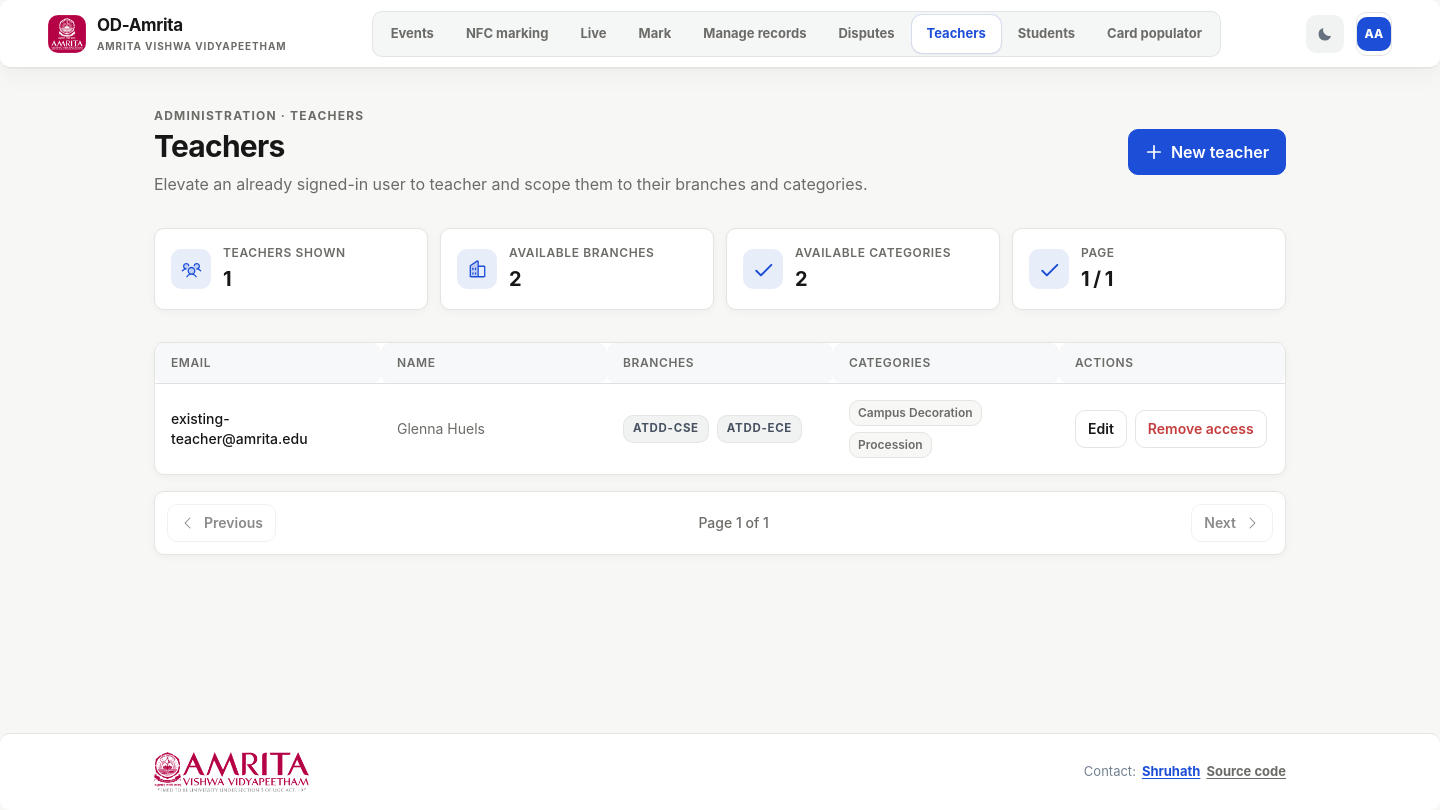
Scenario: Admin teachers portal composition (ATDD red phase) › [P1] maps a typed USER_NOT_FOUND rejection onto an announced non-field error
The width and height of the screenshot is (1440, 810).
Click the button "New teacher" at [1207, 152], box [1128,129,1286,175]
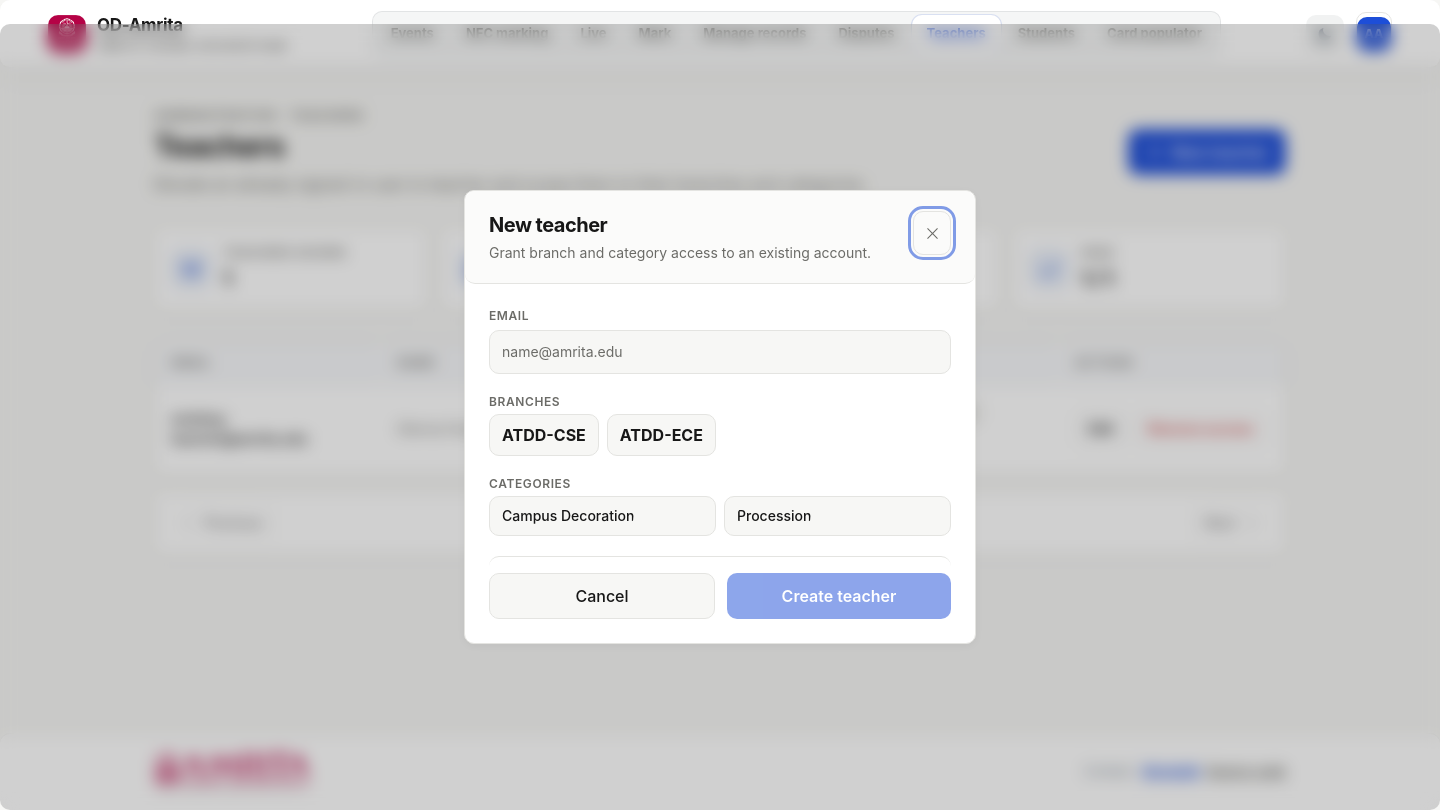
Type "never-logged-in@amrita.edu" into the field labelled "Email" at [720, 352], box [489,330,951,374]
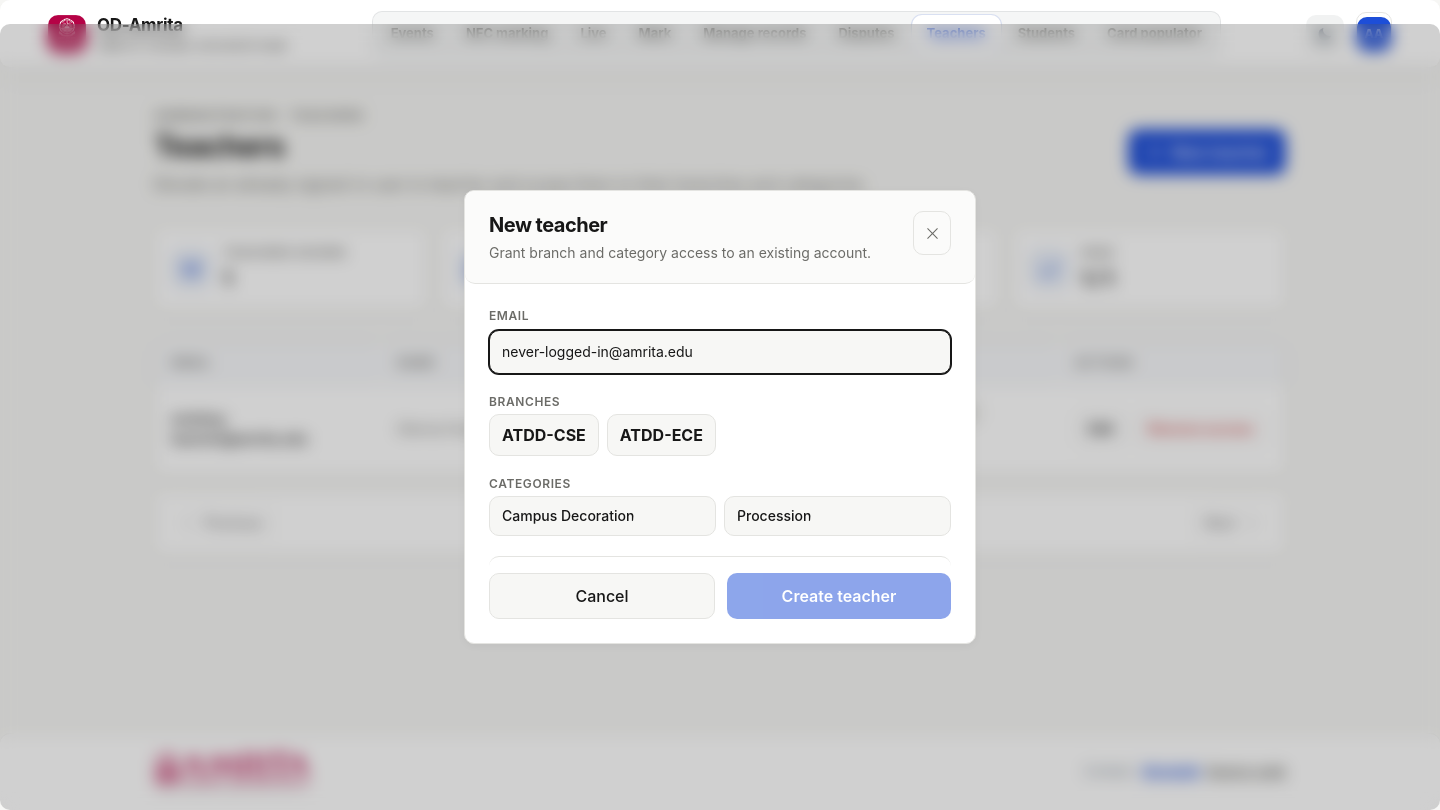
Click the checkbox named "Computer Science" at [544, 435], box [489,414,599,456]
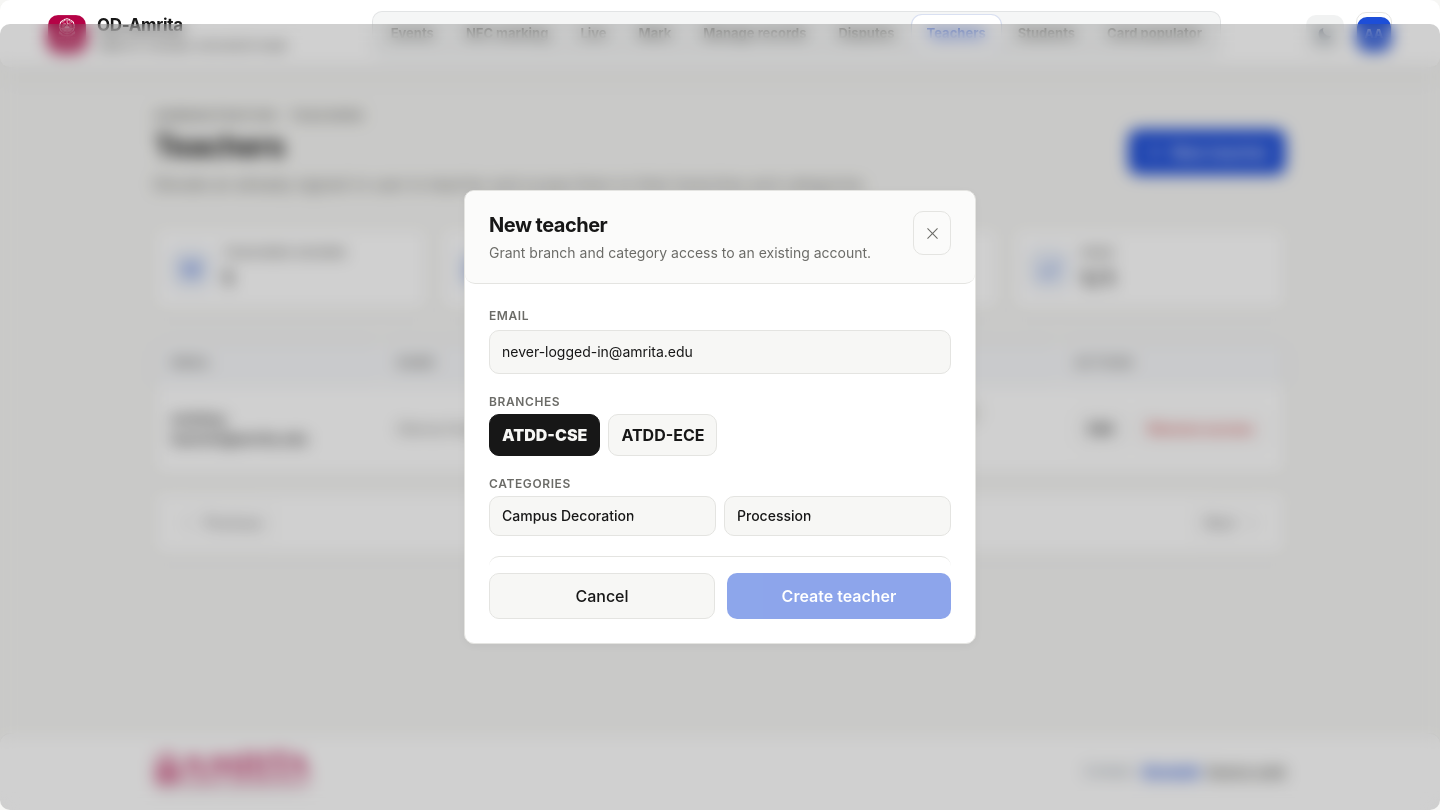
Click the checkbox labelled "Campus Decoration" at [602, 516], box [489,496,716,536]
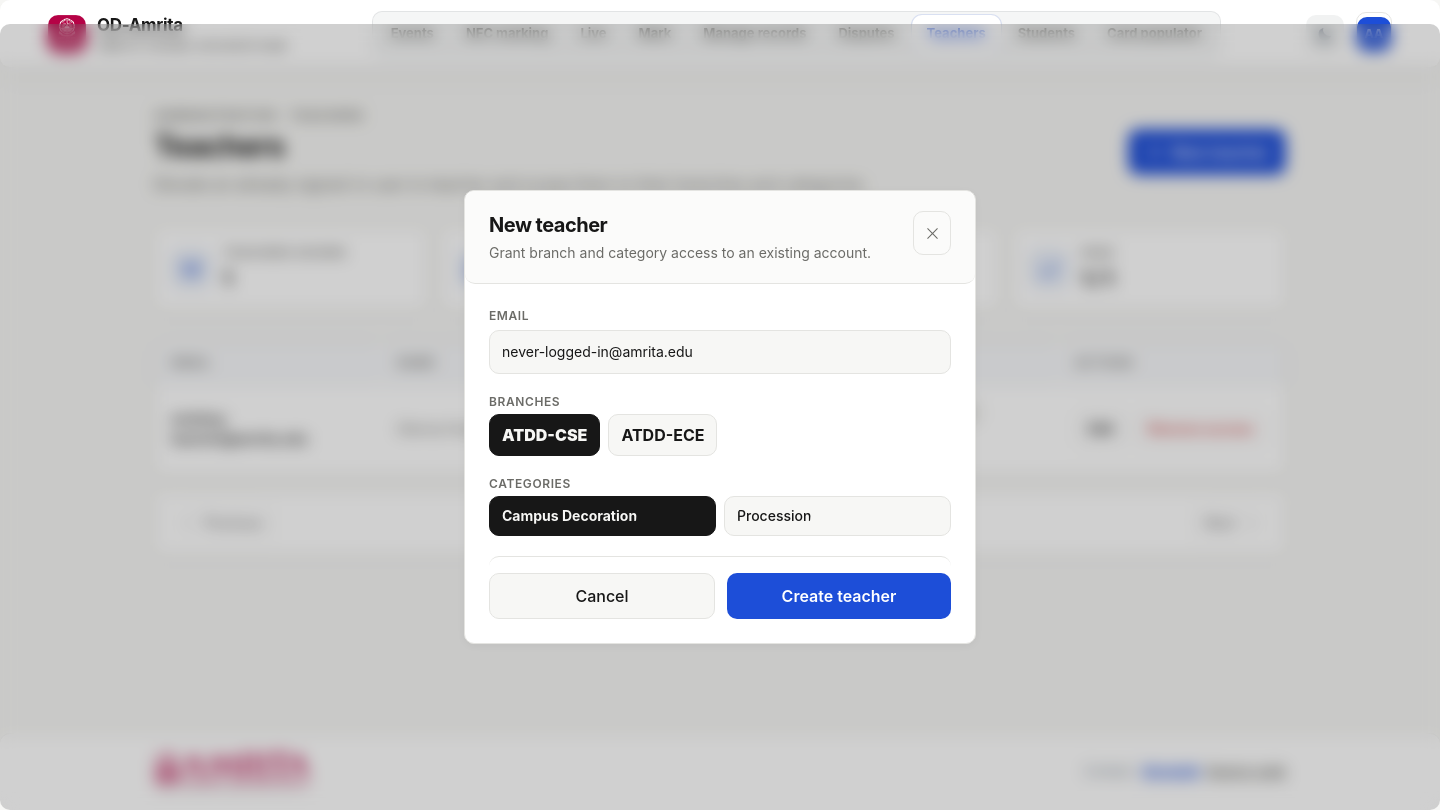
Click the button "Create teacher" at [839, 596], box [727,573,951,619]
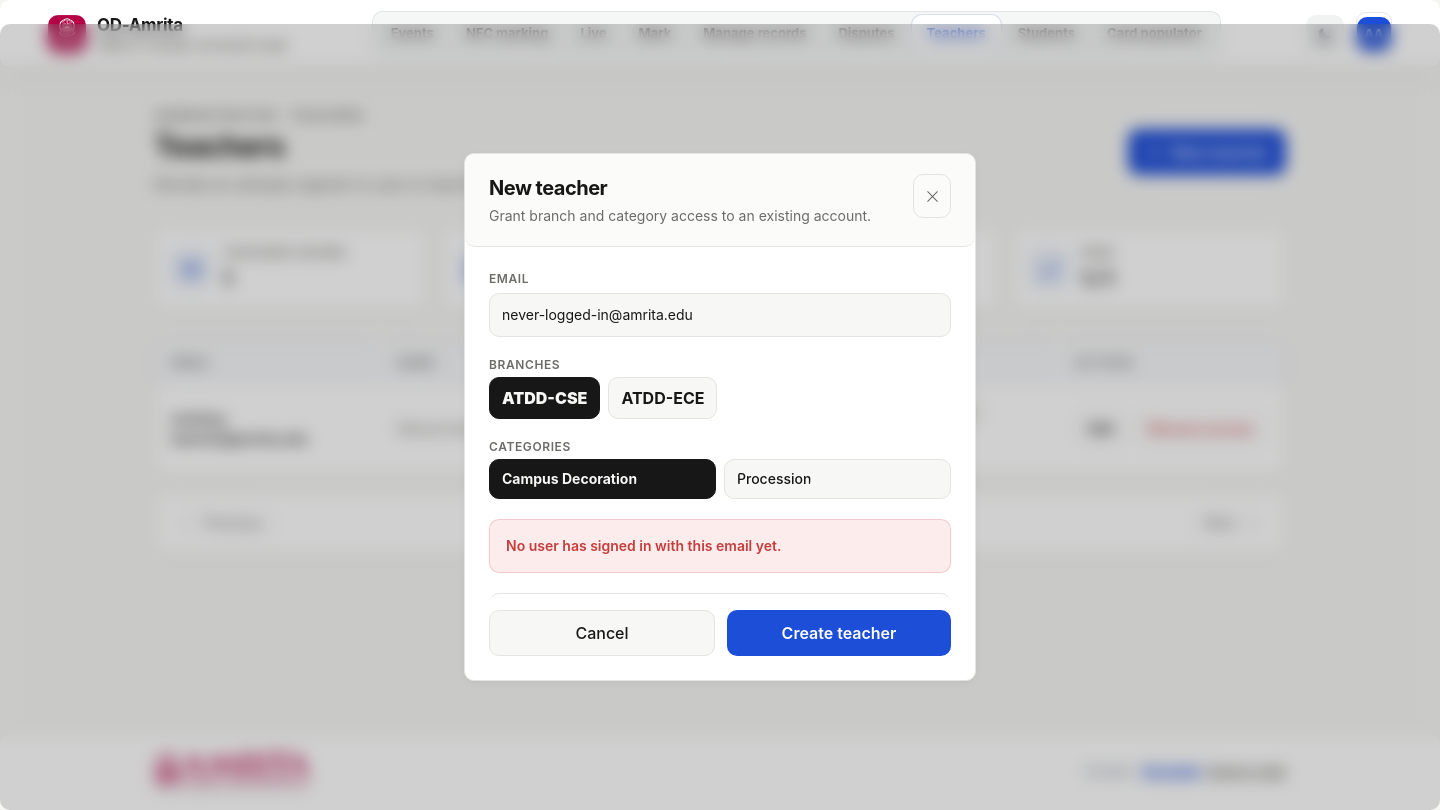
Expected: the message reads "No user has signed in with this email yet.", [506,537,782,554]
